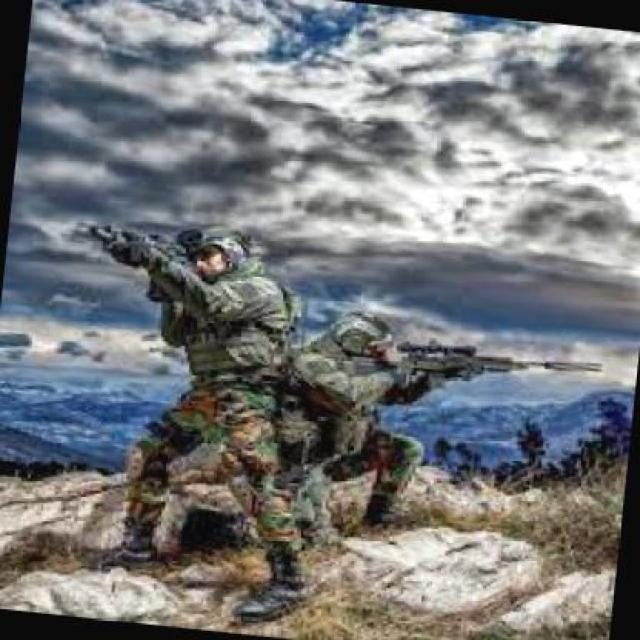MIL_Pax: (97, 216, 326, 584), (283, 302, 442, 529)
